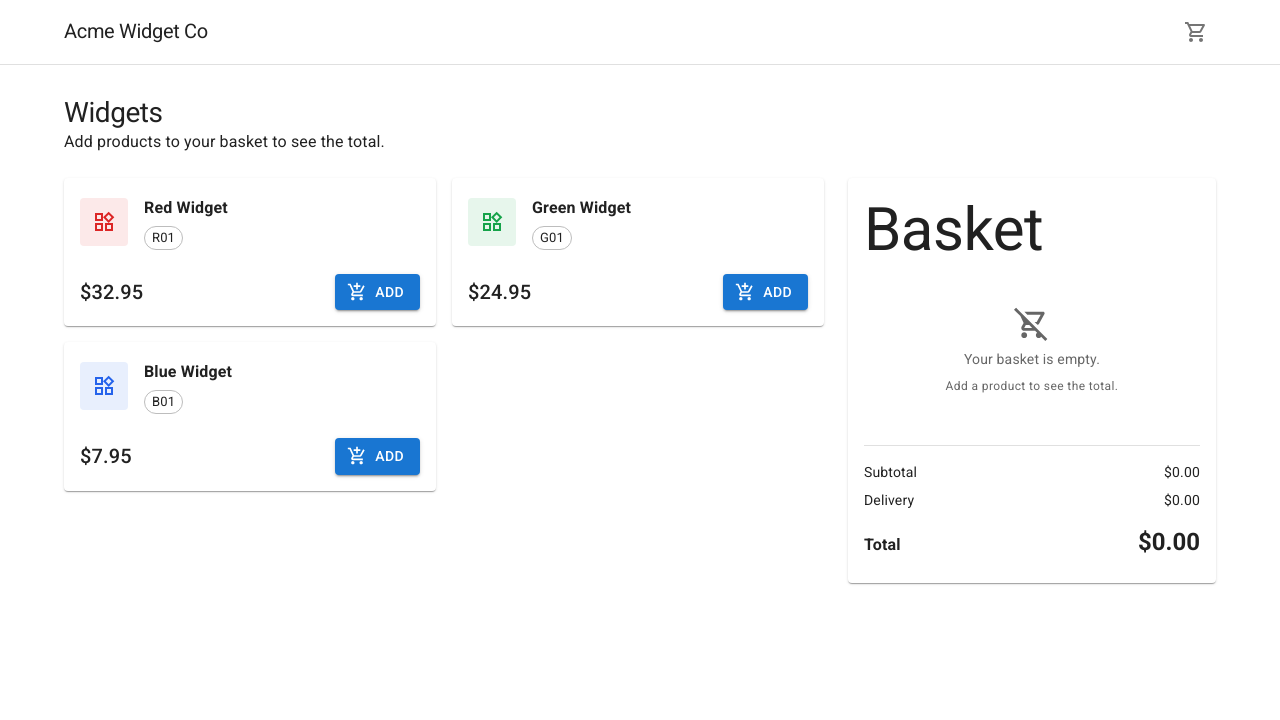
Test: BasketPage › increments and decrements from the basket rows
Click the button "Add" in the row of "$32.95": (378, 292) [335, 274, 420, 310]
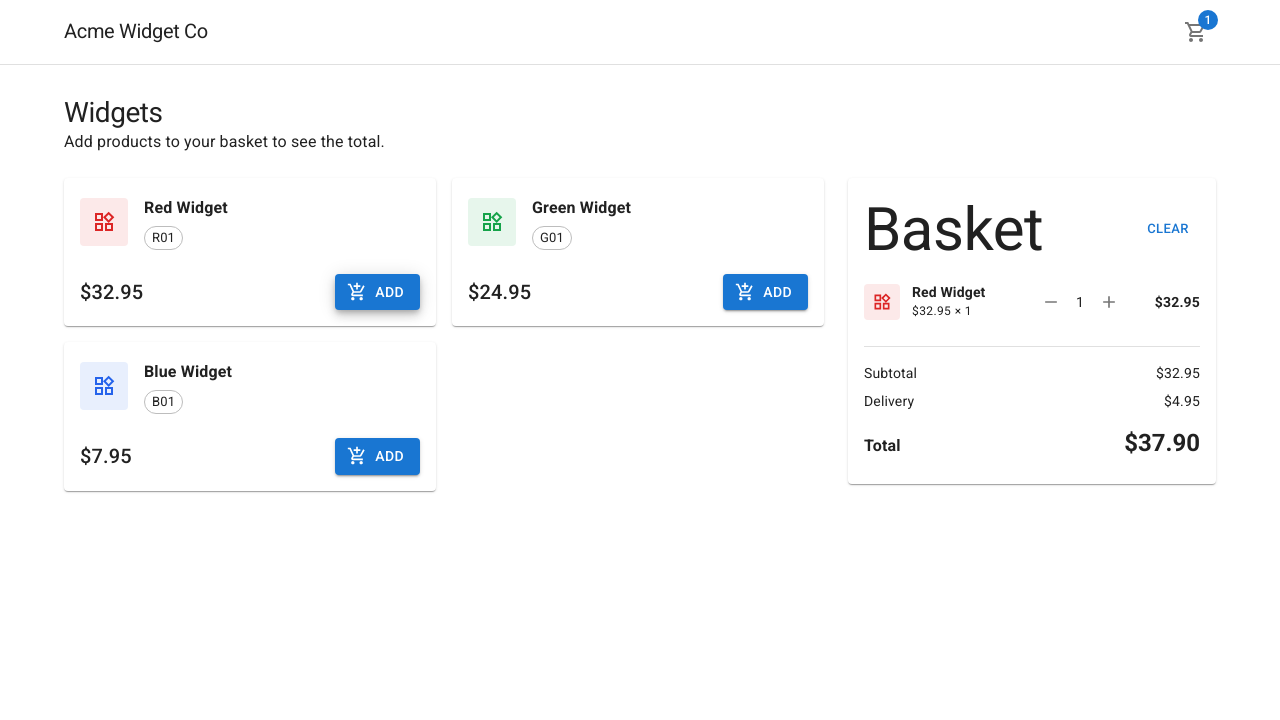
Click the button named "Add one Red Widget": (1109, 302) [1094, 287, 1124, 317]
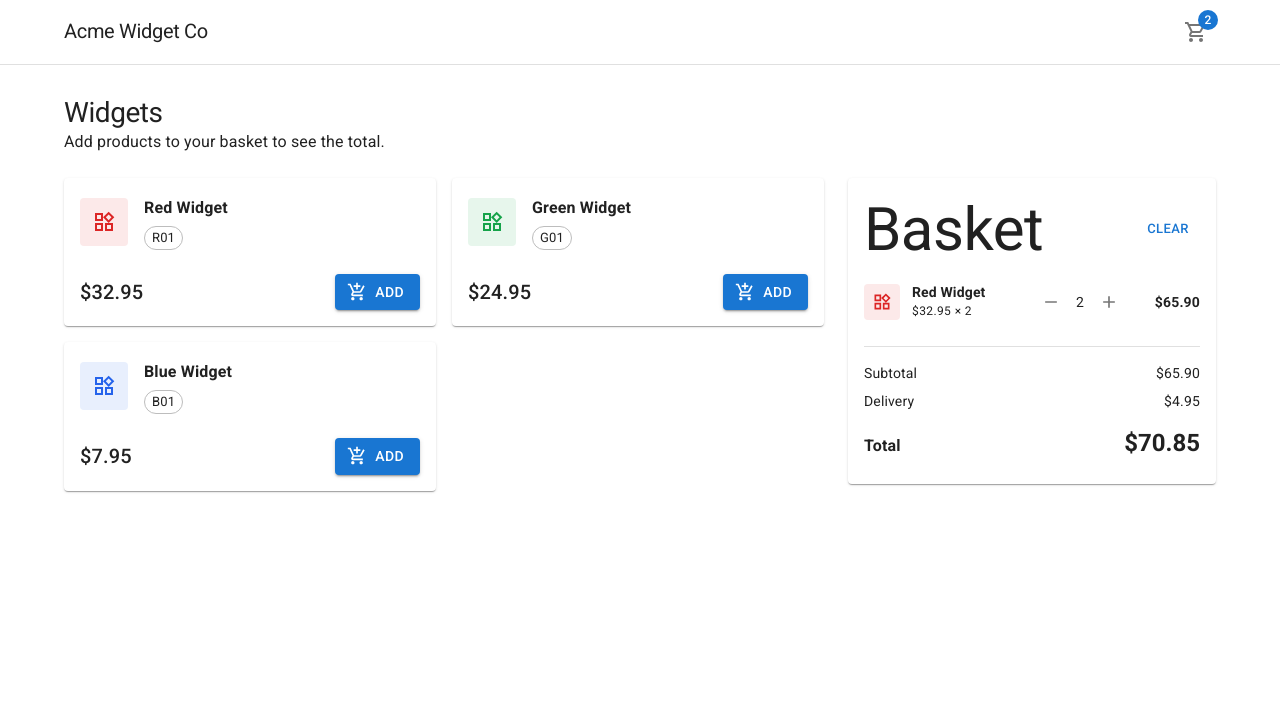
Result: the text "$70.85" is shown at [1124, 427, 1200, 459]
Click the button named "Remove one Red Widget": (1051, 302) [1036, 287, 1066, 317]
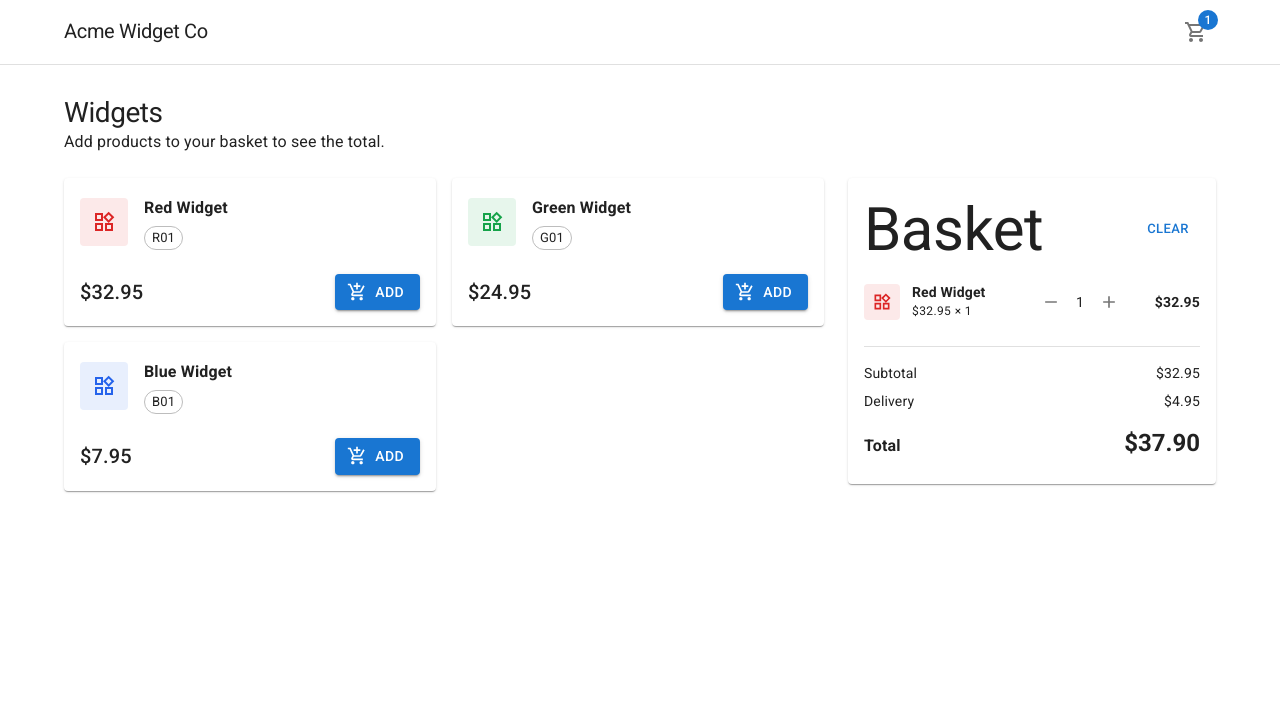
Result: the text "$37.90" is shown at [1124, 427, 1200, 459]
